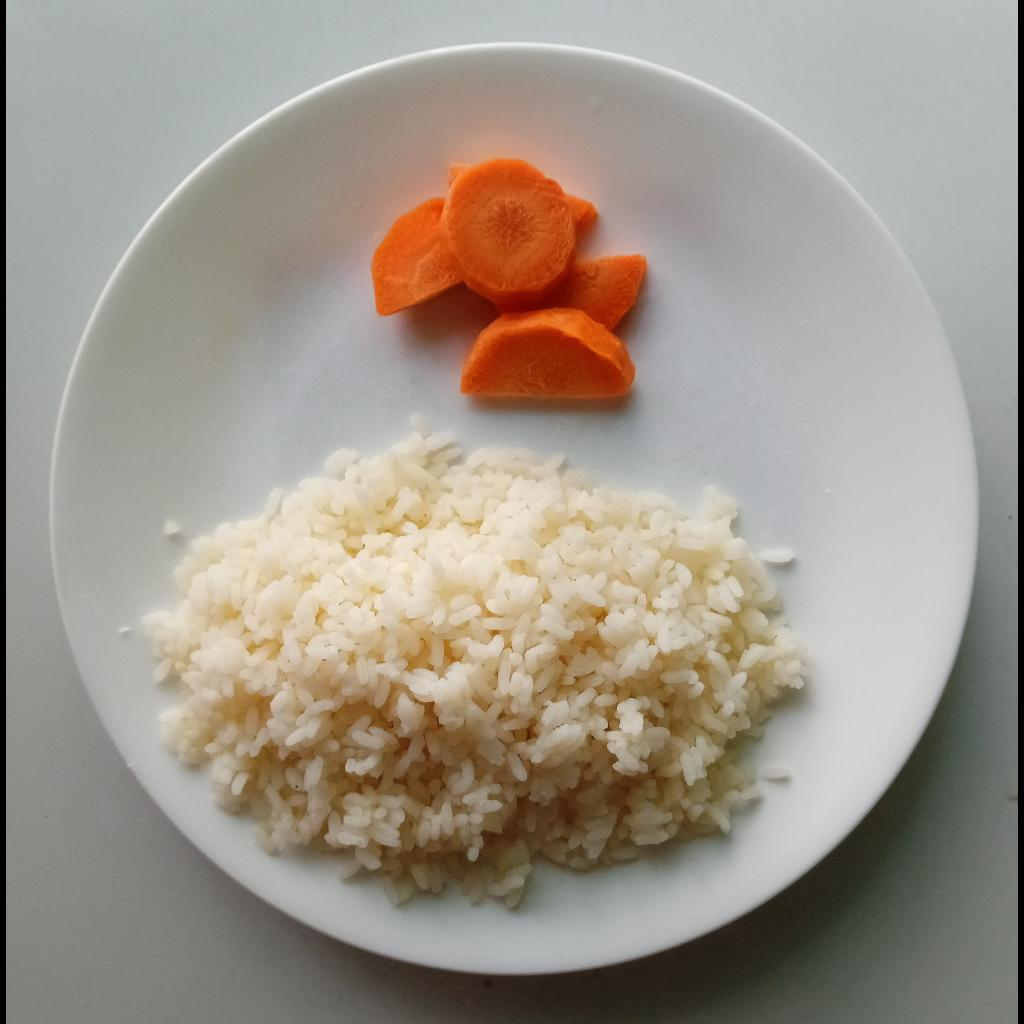carrot: (370, 155, 646, 396)
rice: (142, 422, 810, 912)
